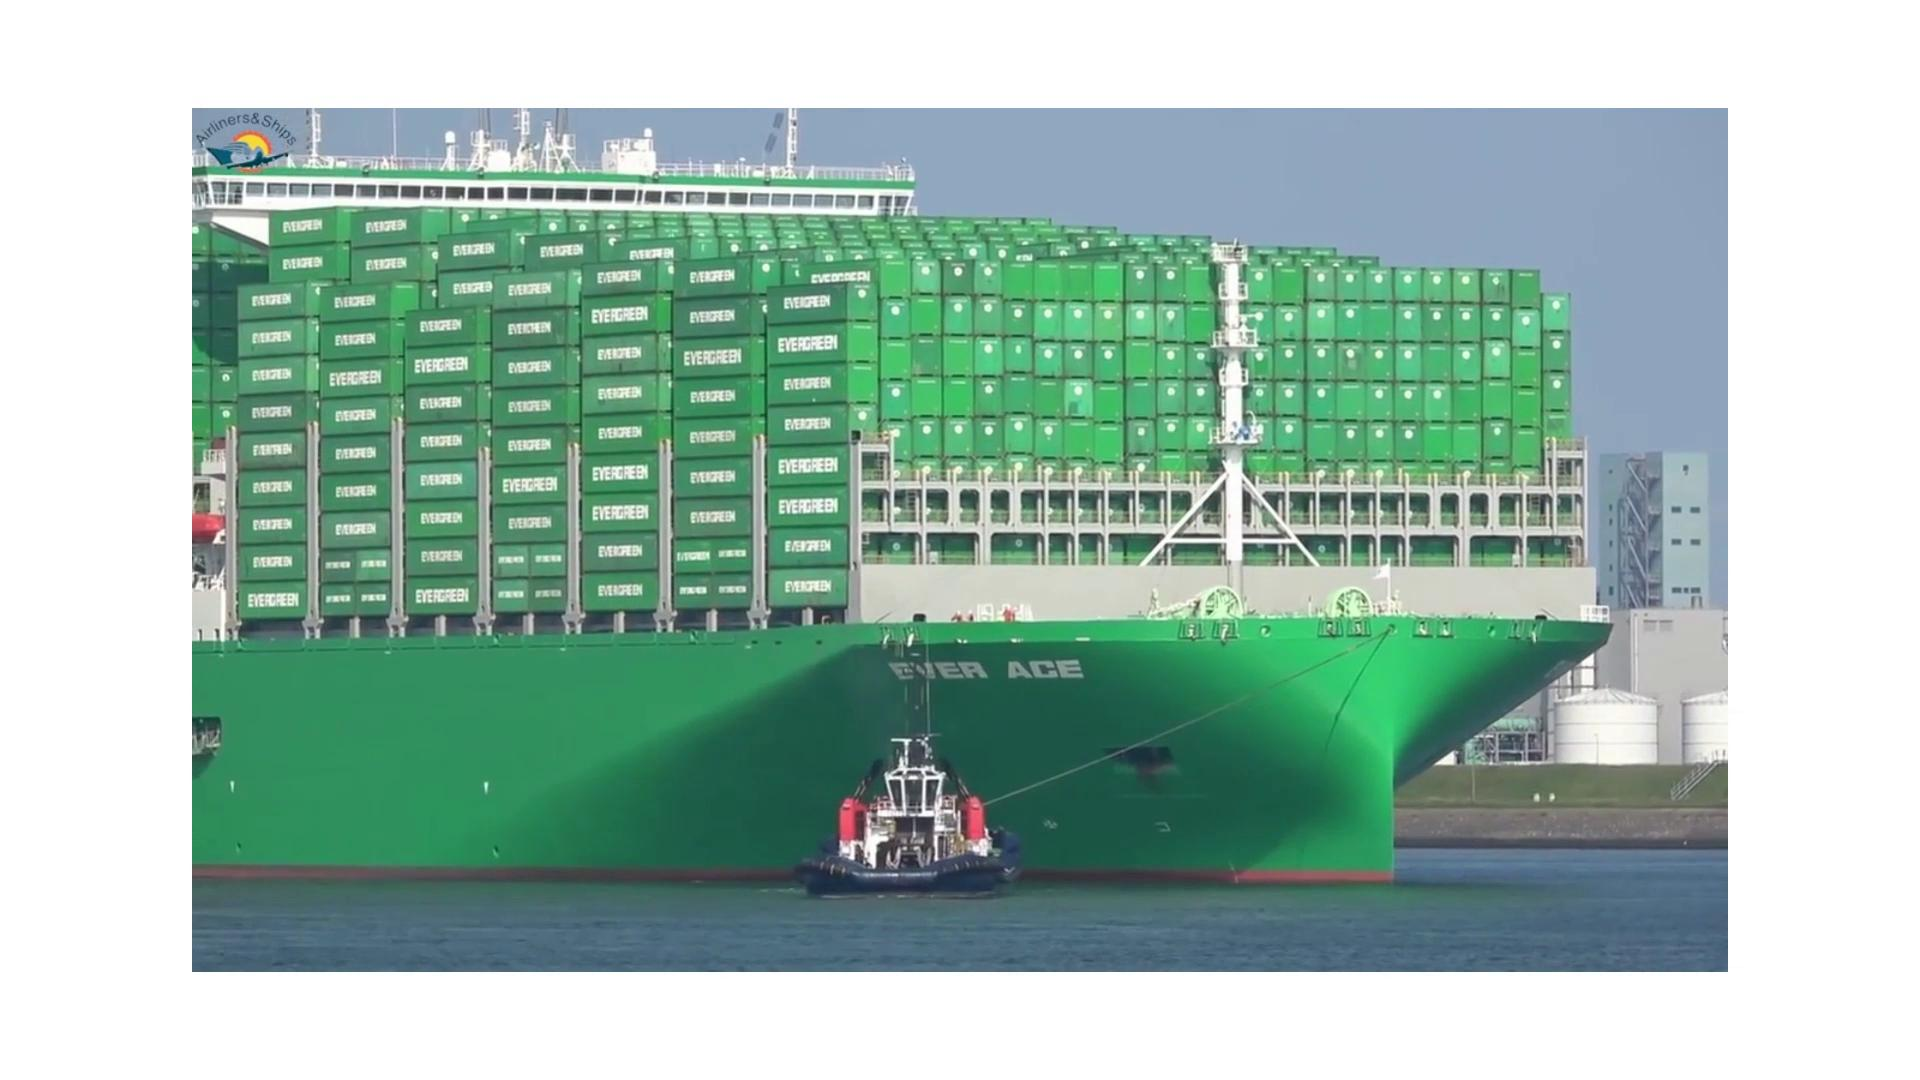OCR: (847, 632, 1104, 704)
